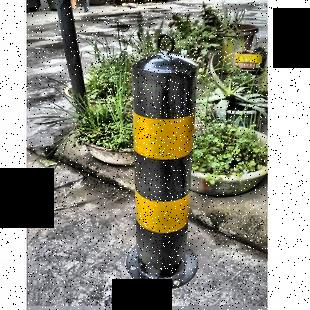bench: (130, 35, 200, 287)
